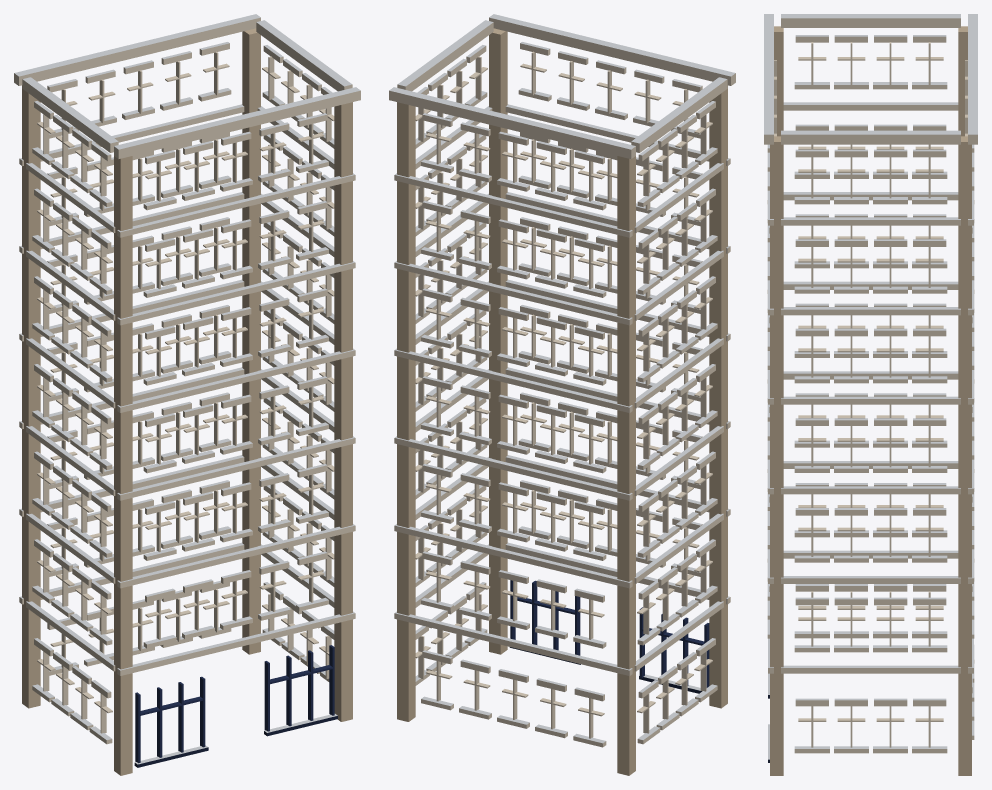
File: Apartment_Grey_Trim.glb
3 renders of one model, left to right at view 1: azimuth 30°, elevation 25°; view 2: azimuth 150°, elevation 25°; view 3: azimuth 270°, elevation 25°, orthographic. The views are drawn at different scales.
Visible parts, largest first — view 1: Apartment_Grey_Trim; view 2: Apartment_Grey_Trim; view 3: Apartment_Grey_Trim.
Boxes of the visible parts, x1,y1,x2,y2 form: Apartment_Grey_Trim: (14, 14, 360, 775); Apartment_Grey_Trim: (389, 14, 735, 775); Apartment_Grey_Trim: (764, 14, 977, 775).
Bounding box in the file's own units: 31.8 × 79 × 23.8.
